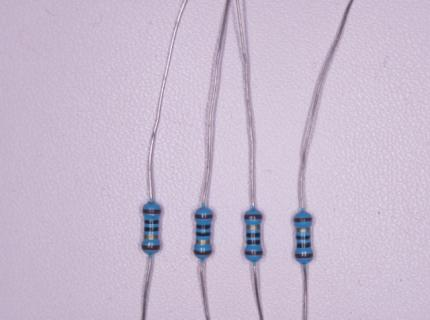Black band: (246, 240, 261, 246), (196, 232, 212, 237), (144, 227, 159, 232), (144, 220, 159, 225), (246, 232, 261, 237), (296, 243, 311, 248), (296, 235, 311, 240), (197, 224, 211, 229)
Brown band: (293, 217, 313, 223), (295, 253, 314, 259), (142, 209, 162, 214), (244, 251, 264, 256), (195, 214, 214, 219), (244, 214, 263, 219), (193, 250, 212, 255), (142, 245, 160, 250)
Gold band: (143, 234, 159, 240), (246, 224, 260, 230), (196, 240, 211, 245), (295, 227, 310, 232)
